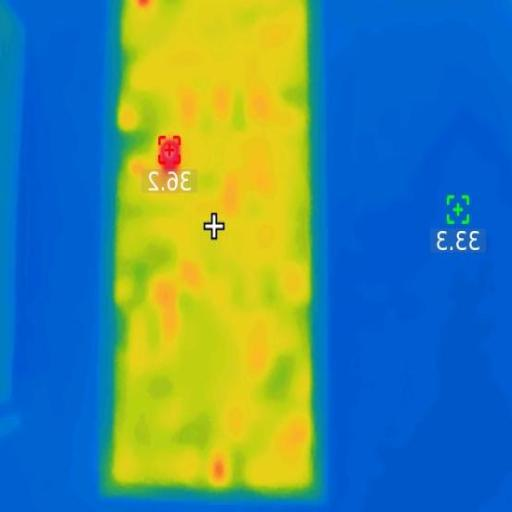hotspot: (160, 139, 176, 169)
